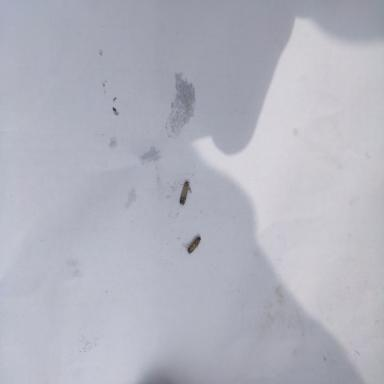pbw: (179, 182, 192, 206), (183, 237, 201, 254)
